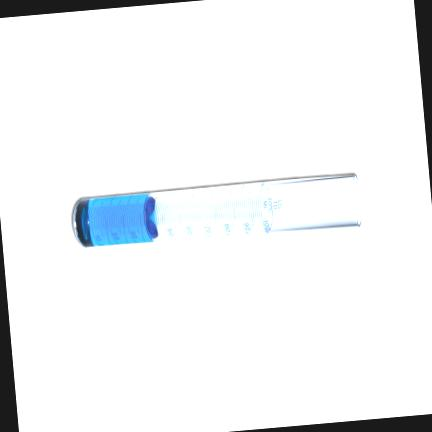container: (72, 174, 360, 247)
fluid: (73, 195, 153, 247)
fluid-surface: (142, 195, 160, 243)
